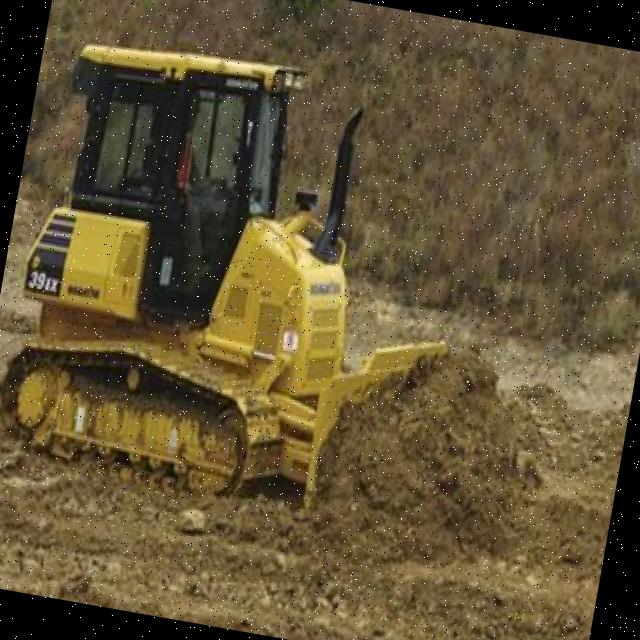Bulldozer: (0, 12, 521, 565)
